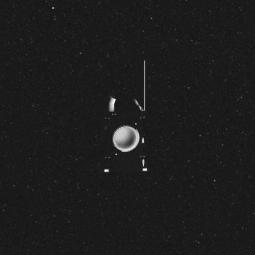proba_3_csc: (90, 49, 156, 188)
